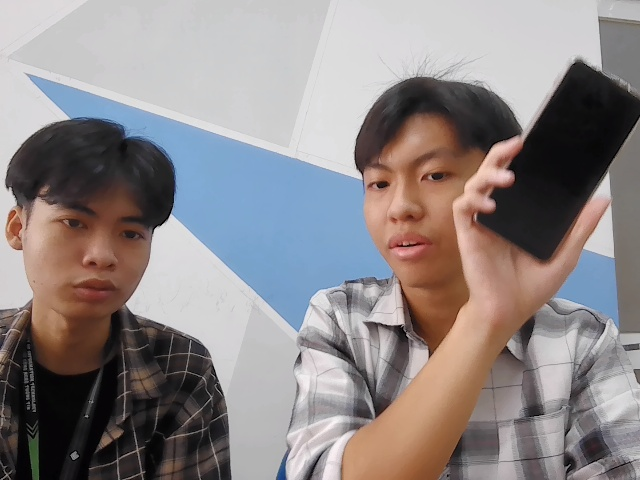human: (347, 79, 530, 288), (8, 119, 180, 316)
phone: (466, 37, 640, 262)
